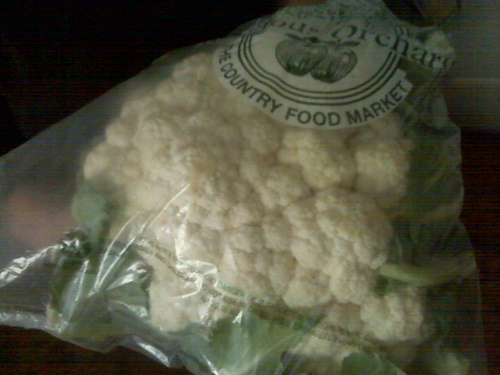cauliflower: (0, 0, 480, 374)
